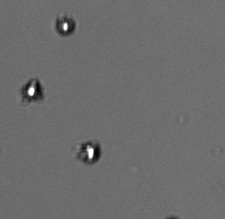Living Cell: (22, 78, 44, 102), (79, 140, 100, 164), (55, 14, 75, 35)
